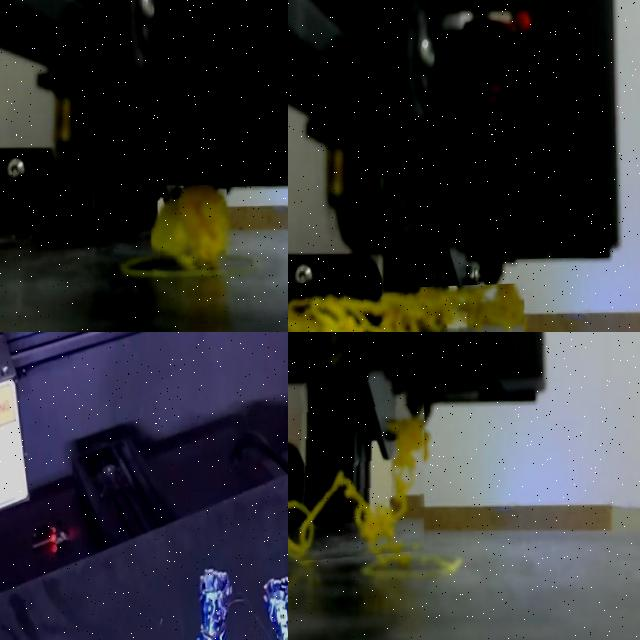spaghetti: (288, 421, 425, 560), (288, 283, 523, 332), (151, 185, 226, 268)
